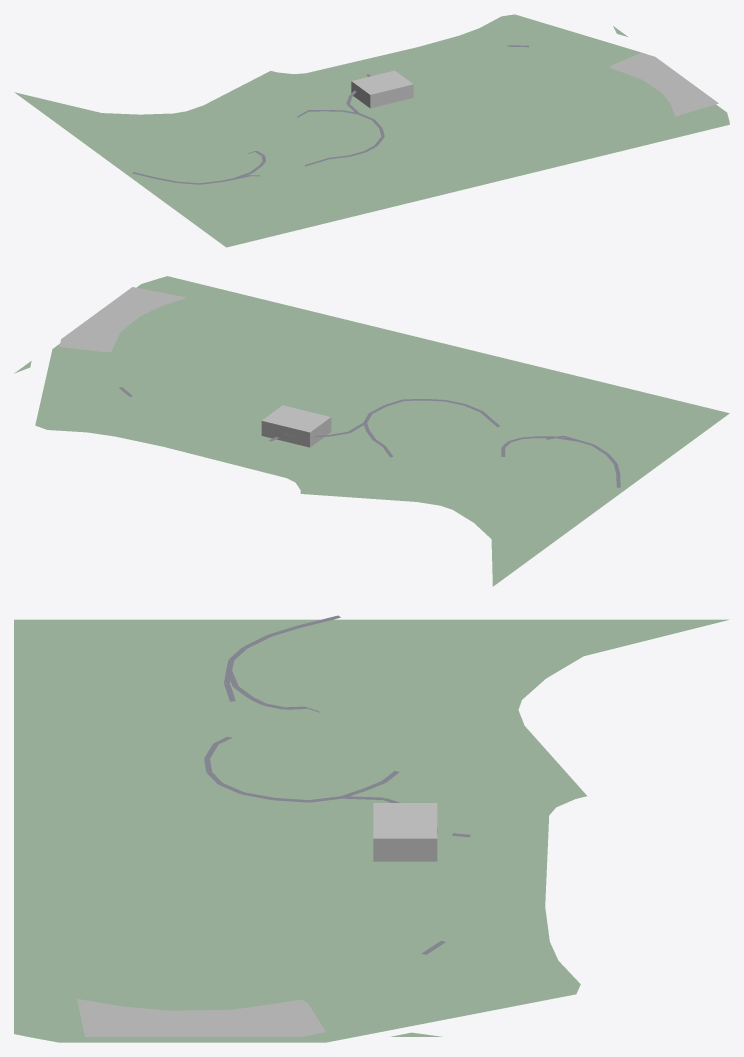
File: 125_68_mid.glb
The picture shows the model from 3 angles, top to bottom: view 1: azimuth 30°, elevation 25°; view 2: azimuth 150°, elevation 25°; view 3: azimuth 270°, elevation 25°; orthographic projection. The views are drawn at different scales.
Bounding box in the file's own units: 500 × 14.61 × 358.
